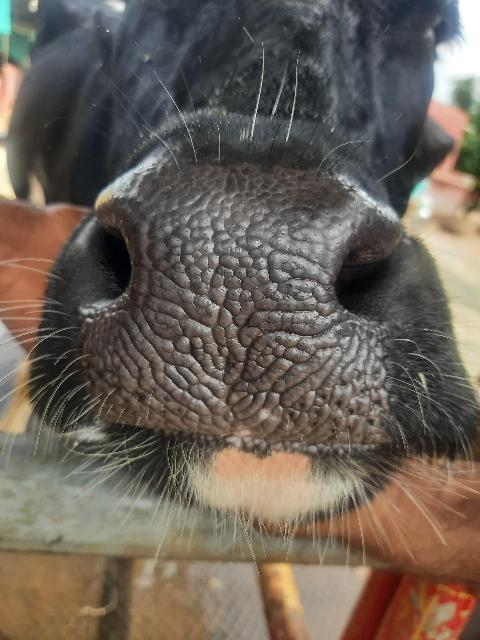Muzzle: (97, 181, 389, 451)
